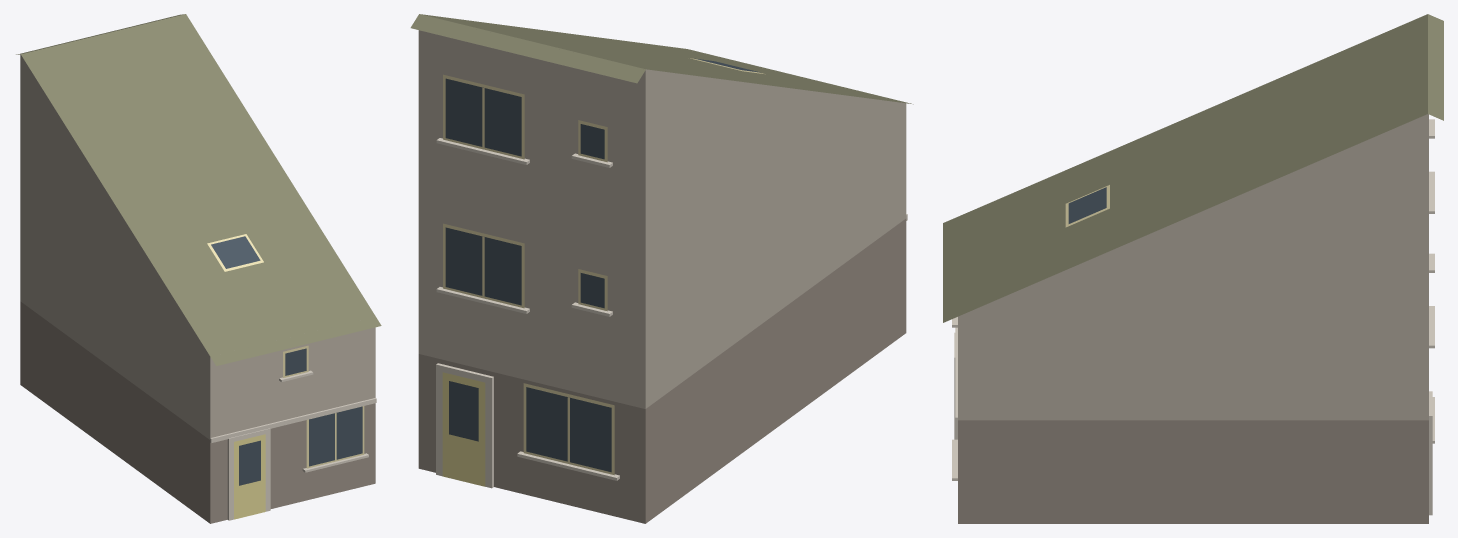
Rendered from nd-ck-saltbox__yellow__2__gable__long__solid.glb.
3 views of the same model, side by side, from view 1: azimuth 30°, elevation 25°; view 2: azimuth 150°, elevation 25°; view 3: azimuth 270°, elevation 25° (orthographic). The views are drawn at different scales.
Visible parts, largest first — view 1: nd-ck-saltbox__yellow__2__gable__long__solid; view 2: nd-ck-saltbox__yellow__2__gable__long__solid; view 3: nd-ck-saltbox__yellow__2__gable__long__solid.
Part boxes in pixels (bbox=[...]): nd-ck-saltbox__yellow__2__gable__long__solid: bbox=[16, 14, 381, 523]; nd-ck-saltbox__yellow__2__gable__long__solid: bbox=[410, 14, 913, 523]; nd-ck-saltbox__yellow__2__gable__long__solid: bbox=[943, 14, 1443, 523].
Bounding box in the file's own units: 4.78 × 9.15 × 10.13.
